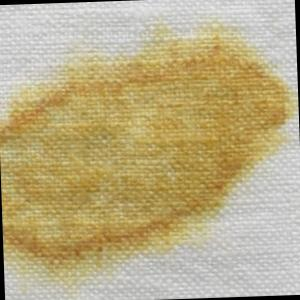Oil Stain: (1, 13, 300, 300)
